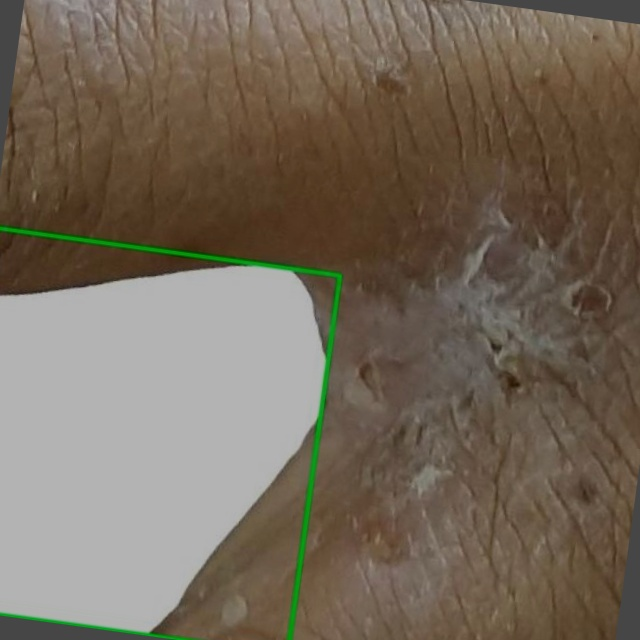Scabies: (0, 228, 340, 639)
